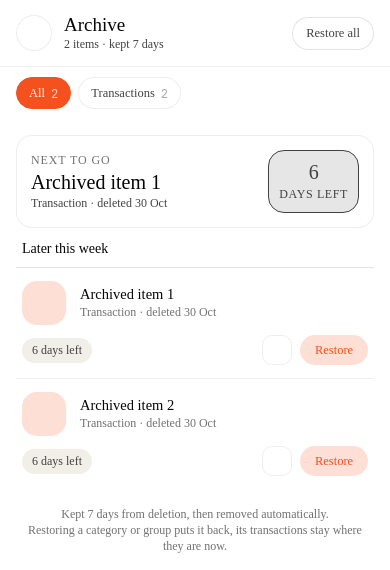
Scenario: removes a restored row as soon as it settles, without waiting on the delayed background refetch
This screenshot has width=390, height=570.
Expected: the text "Archived item 1" is shown 2 times, [31,170,161,192]; [80,286,174,302]
Click the text "Restore" below "Later this week". click: (334, 350)
box: [315,342,353,358]
Wait 650 ms
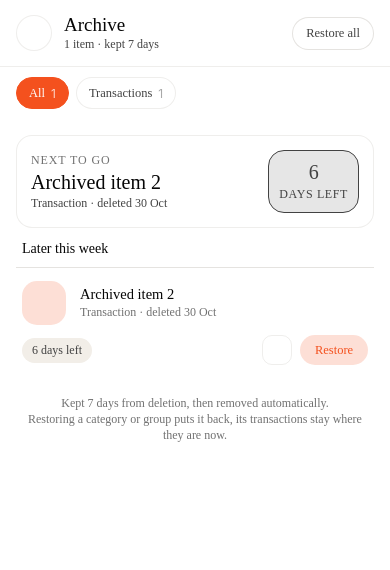
Expected: the text "Archived item 1" is not shown
Expected: the text "Archived item 2" below "NEXT TO GO" is shown, [31,170,161,192]
